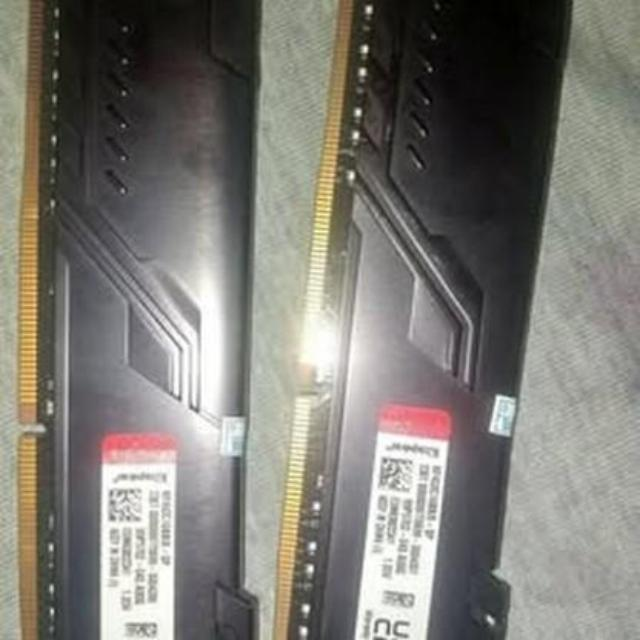RAM: (268, 0, 577, 640), (17, 0, 258, 640)
